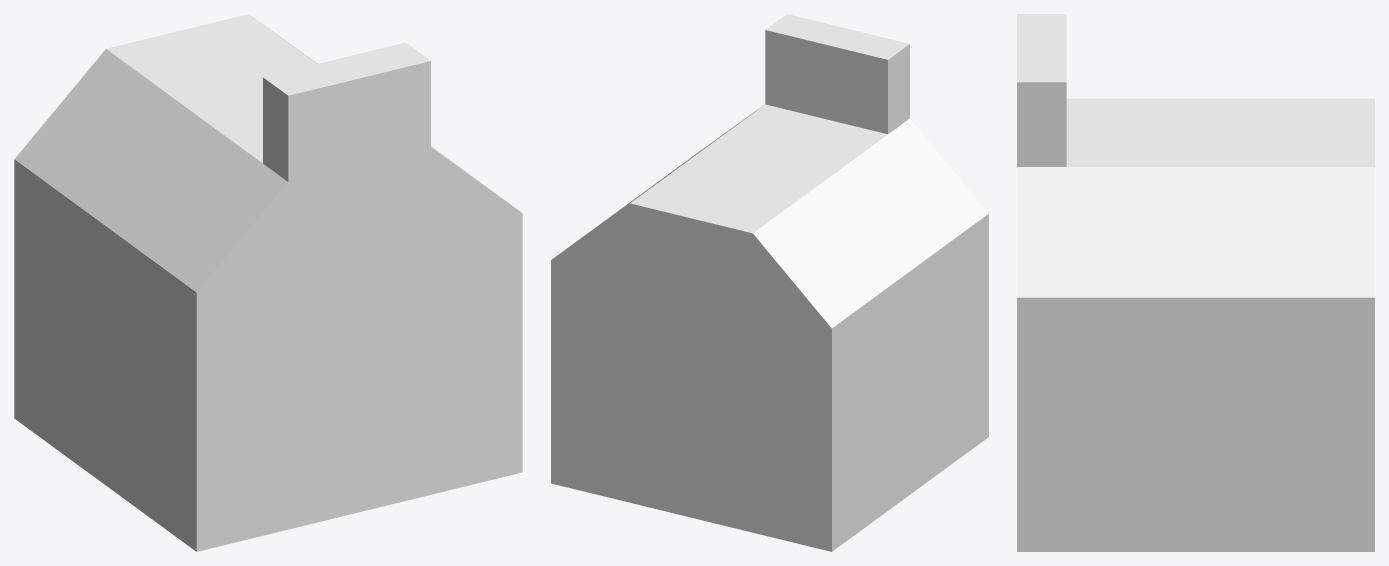
File: Building_8.fbx
3 renders of one model, left to right at view 1: azimuth 30°, elevation 25°; view 2: azimuth 150°, elevation 25°; view 3: azimuth 270°, elevation 25°, orthographic. The views are drawn at different scales.
Visible parts, largest first — view 1: Cube.010; view 2: Cube.010; view 3: Cube.010.
Boxes of the visible parts, x1=… form: Cube.010: x1=14, y1=14, x2=522, y2=551; Cube.010: x1=551, y1=14, x2=988, y2=551; Cube.010: x1=1017, y1=14, x2=1374, y2=551.
Bounding box in the file's own units: 353 × 450 × 342.
